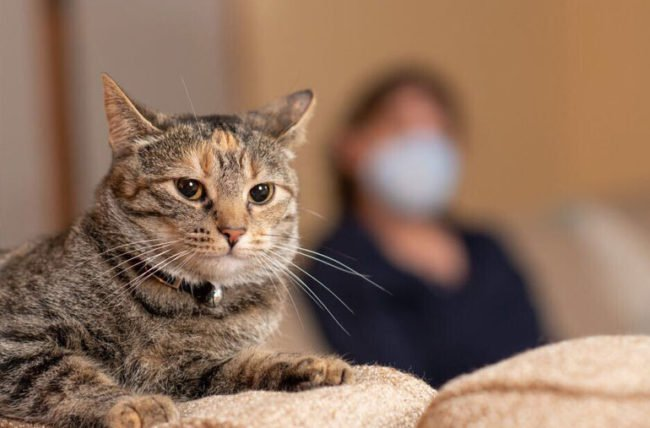cat: (48, 65, 348, 423)
